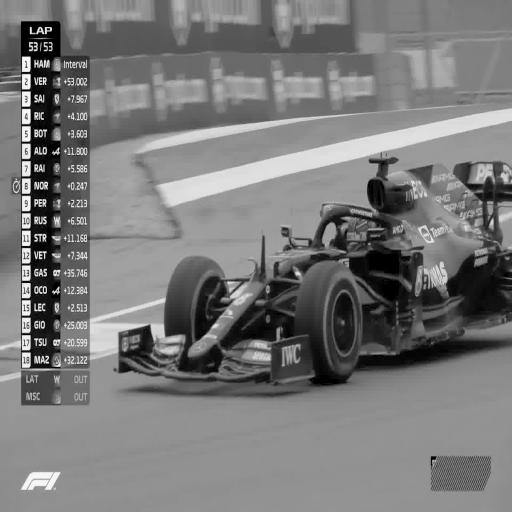f1_car: (116, 155, 512, 383)
